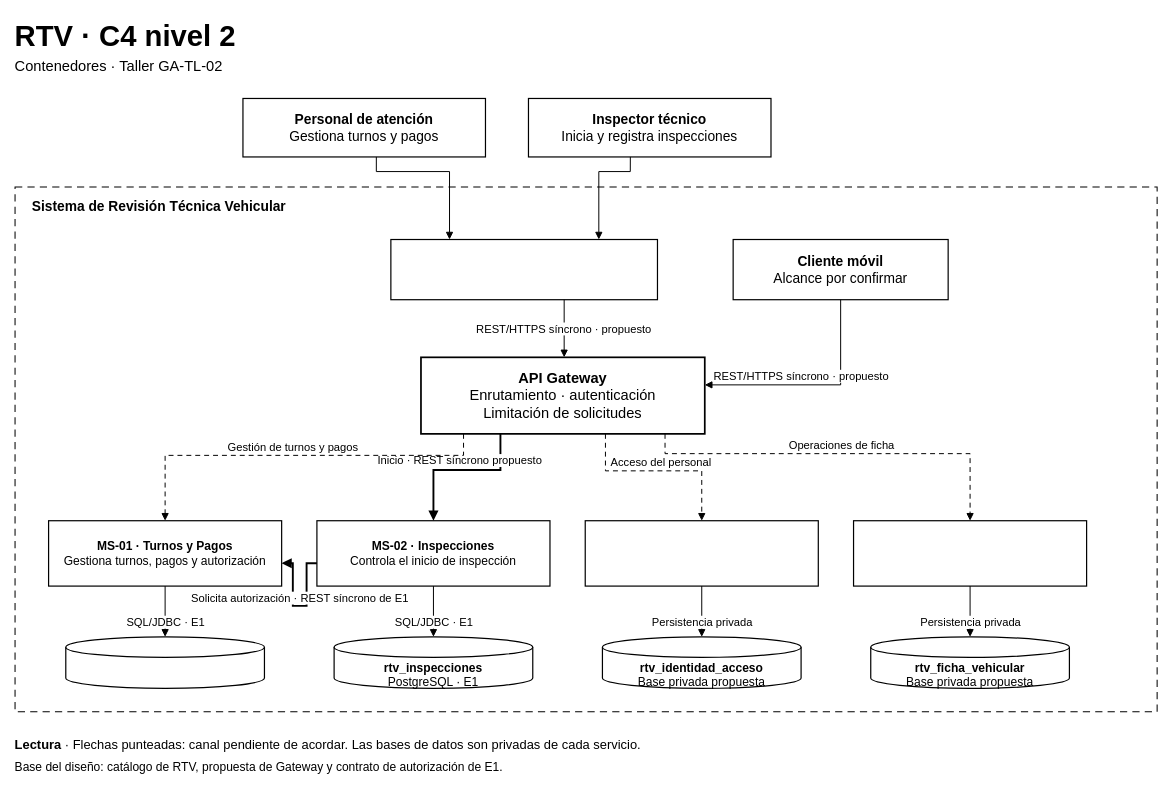
The diagram is 1173 pixels wide and 790 high, and some of its shapes have lost their labels. Each missing label, with the centre of its shape:
"Cliente web Interfaz del personal y del inspector" belongs at (524,269).
"MS-03 · Identidad y Acceso Gestiona acceso, roles y permisos" belongs at (701,553).
"MS-04 · Ficha y Clasificación Vehicular Mantiene la ficha y su categoría" belongs at (970,553).
"rtv_turnos_pagos PostgreSQL · E1" belongs at (165,662).
